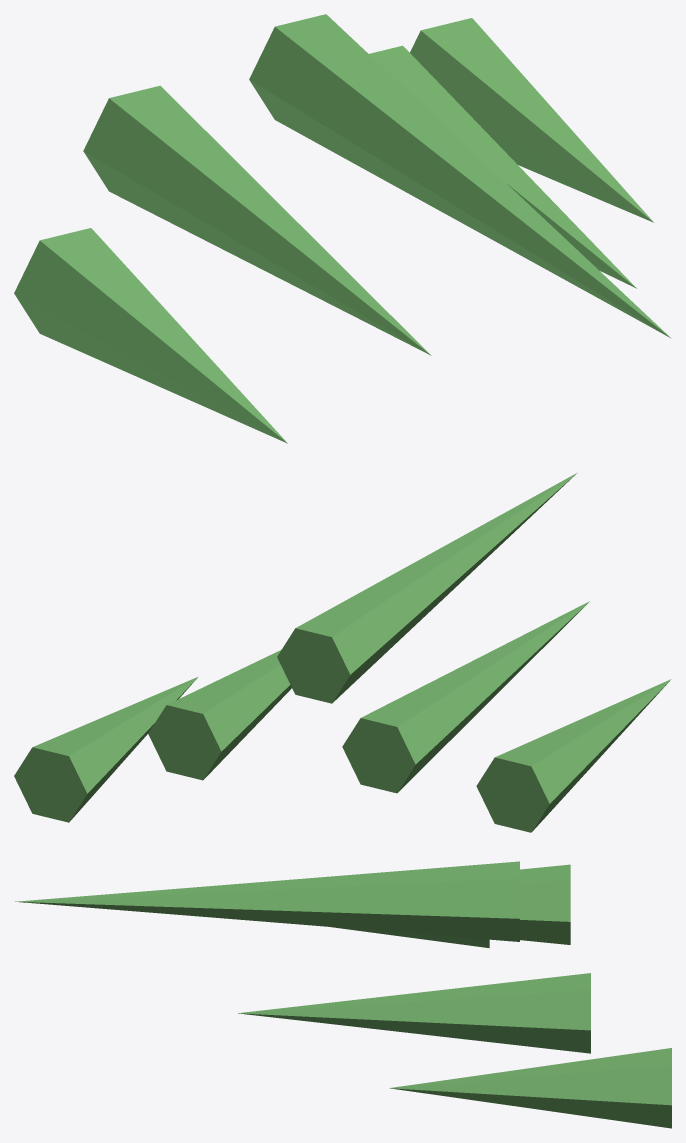
Rendered from grass_cluster_lush.glb.
3 views of the same model, one above another, from view 1: azimuth 30°, elevation 25°; view 2: azimuth 150°, elevation 25°; view 3: azimuth 270°, elevation 25° (orthographic). The views are drawn at different scales.
Visible parts, largest first — view 1: world; view 2: world; view 3: world.
Boxes of the visible parts, bbox=[...] form: world: bbox=[14, 14, 671, 443]; world: bbox=[14, 472, 671, 832]; world: bbox=[15, 861, 671, 1128].
Size of the model in its own units: 0.48 by 0.1793 by 0.65.
